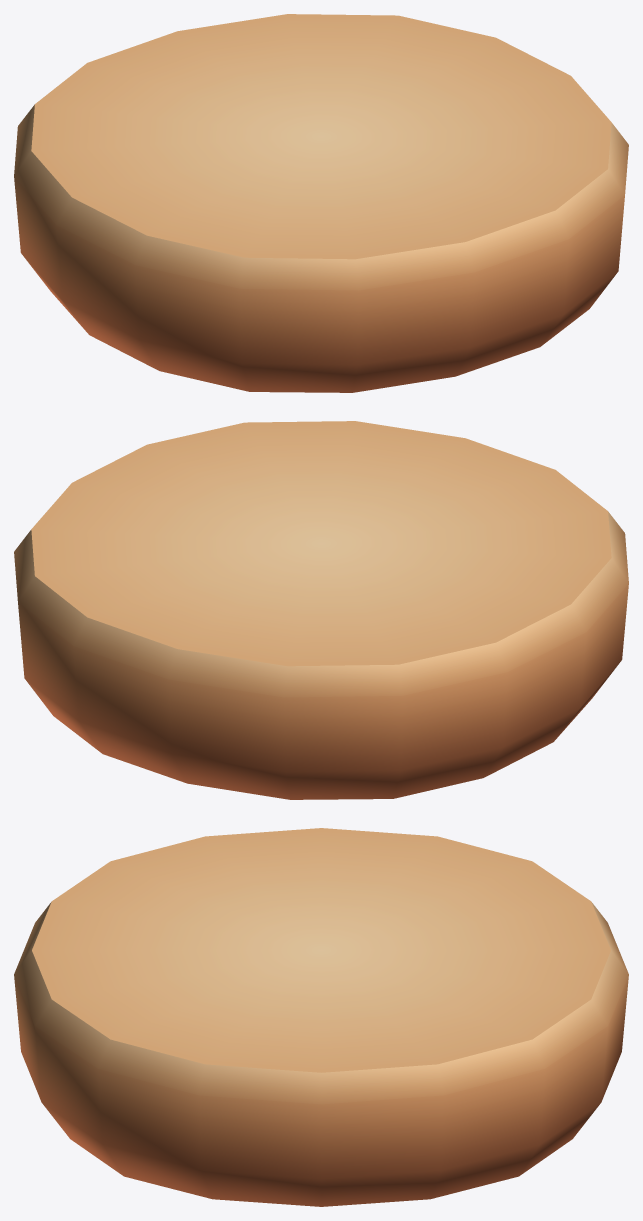
File: food_ingredient_bun_bottom.obj
The picture shows the model from 3 angles, top to bottom: view 1: azimuth 30°, elevation 25°; view 2: azimuth 150°, elevation 25°; view 3: azimuth 270°, elevation 25°; orthographic projection.
Visible parts, largest first — view 1: food_ingredient_bun_bottom_Cube.013; view 2: food_ingredient_bun_bottom_Cube.013; view 3: food_ingredient_bun_bottom_Cube.013.
Part boxes in pixels (x1,y1,x2,y2): food_ingredient_bun_bottom_Cube.013: [14, 14, 628, 392]; food_ingredient_bun_bottom_Cube.013: [14, 421, 628, 799]; food_ingredient_bun_bottom_Cube.013: [14, 828, 628, 1206].
Size of the model in its own units: 0.6938 by 0.2 by 0.6938.
1 material, 1 textured.
